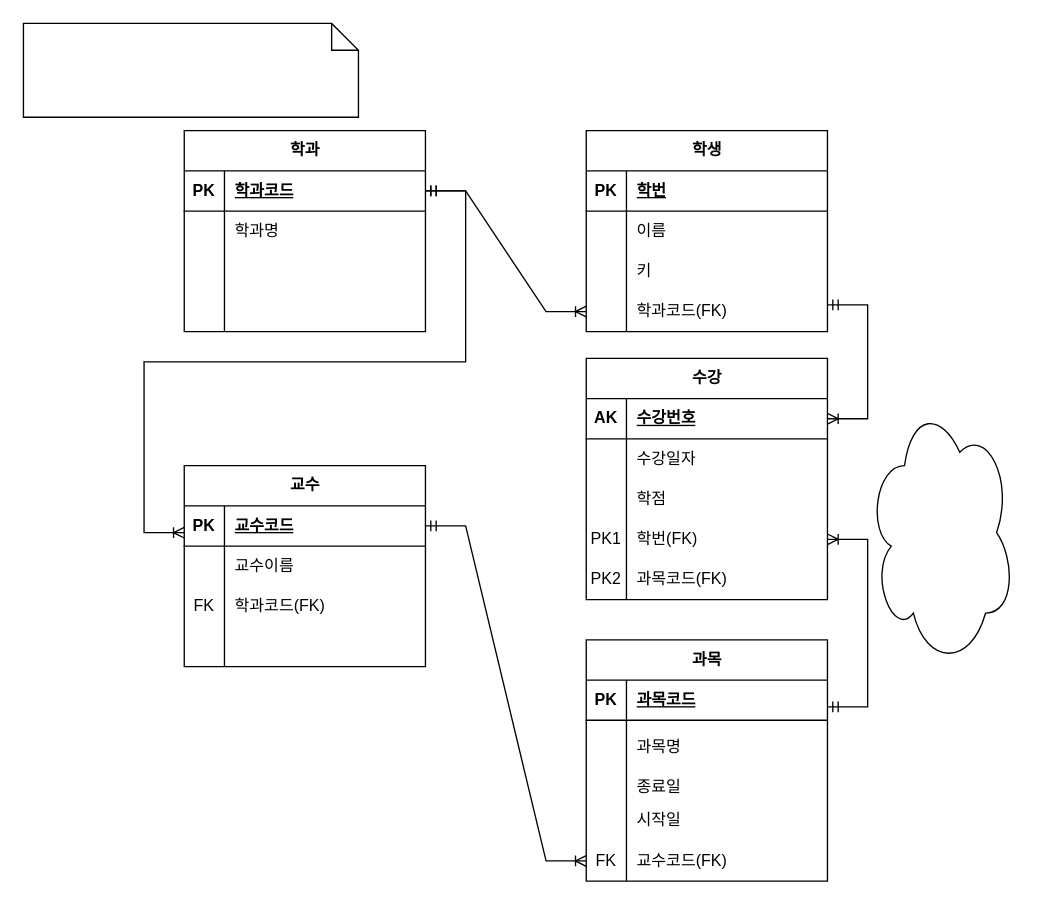
Image size: 1039x905. Some labels were removed from this diagram. Here are the shapes that lost their labels. From the top down, the centre of each, then its label:
At point 190,69: "논리적인 모델링".
At point 940,532: "PK1+PK2 복합 키".
